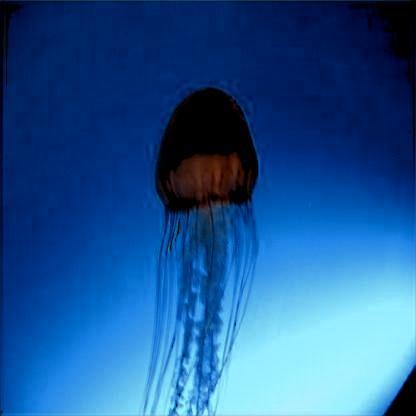Dressed: (150, 88, 258, 402)
